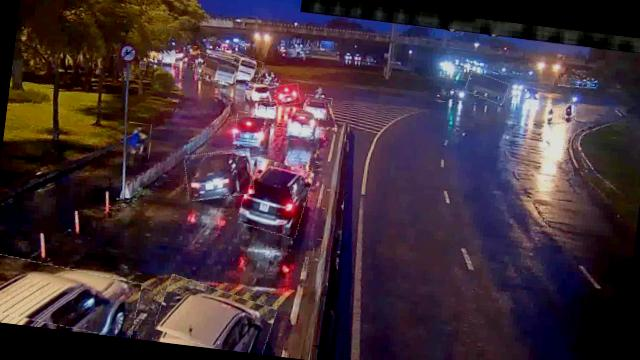Bike: (124, 122, 151, 159), (564, 101, 577, 121), (546, 106, 558, 126)
Bus: (228, 53, 262, 81)
Car: (0, 256, 142, 337), (153, 278, 276, 354), (238, 156, 311, 236), (182, 144, 256, 204), (233, 111, 274, 148), (284, 107, 319, 142), (268, 82, 300, 108), (243, 80, 276, 104), (302, 94, 332, 120)
Truck: (193, 54, 240, 85), (464, 71, 509, 102)
